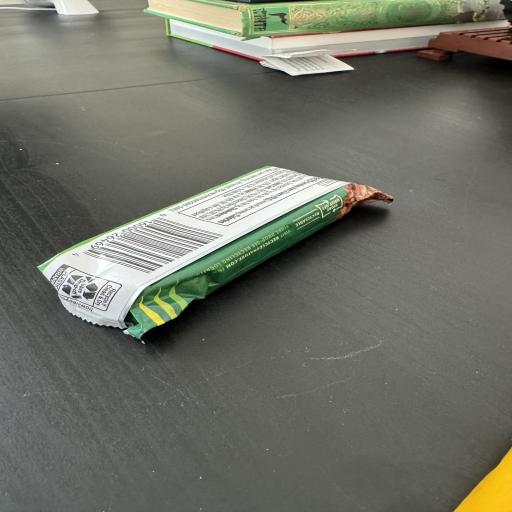granola: (39, 167, 392, 338)
